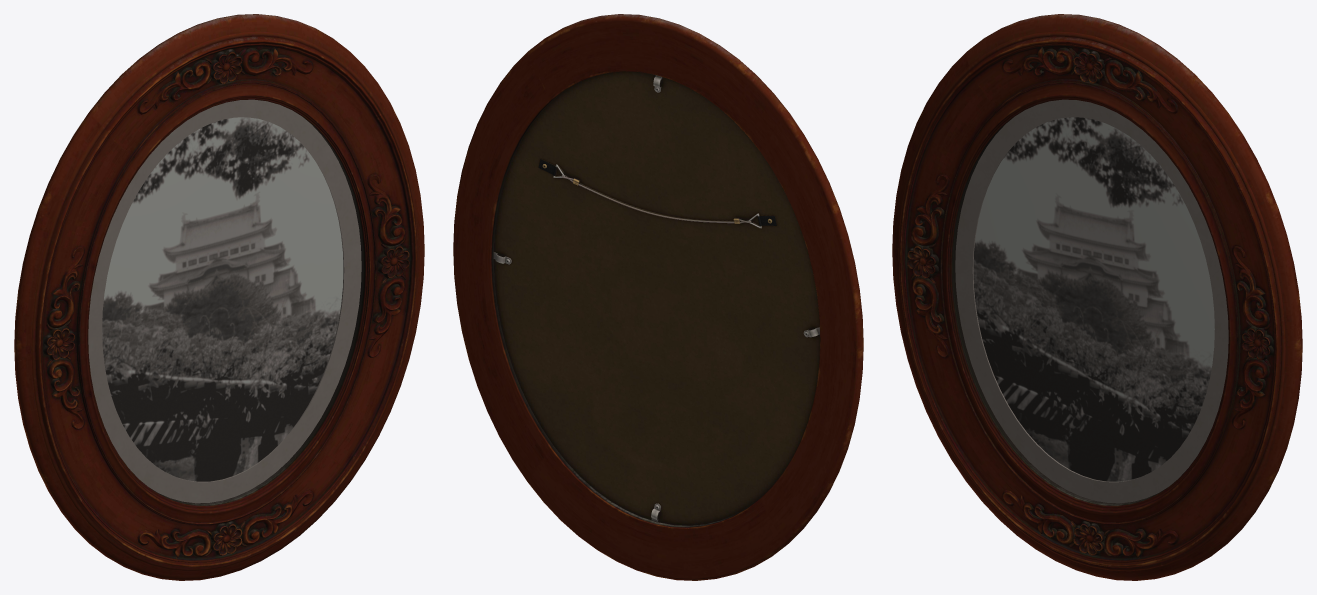
File: hanging_picture_frame_03_4k-v2.glb
The picture shows the model from 3 angles, left to right: view 1: azimuth 30°, elevation 25°; view 2: azimuth 150°, elevation 25°; view 3: azimuth 330°, elevation 25°; orthographic projection.
Parts seen in each view (by area): view 1: hanging_picture_frame_03, hanging_picture_frame_03_glass; view 2: hanging_picture_frame_03; view 3: hanging_picture_frame_03, hanging_picture_frame_03_glass.
Boxes of the visible parts, x1=… form: hanging_picture_frame_03: x1=14, y1=14, x2=424, y2=580; hanging_picture_frame_03_glass: x1=88, y1=100, x2=363, y2=504; hanging_picture_frame_03: x1=453, y1=14, x2=863, y2=580; hanging_picture_frame_03: x1=892, y1=14, x2=1302, y2=580; hanging_picture_frame_03_glass: x1=953, y1=100, x2=1228, y2=504.
Size of the model in its own units: 0.385 by 0.5024 by 0.0318.
3 materials, 2 textured.
